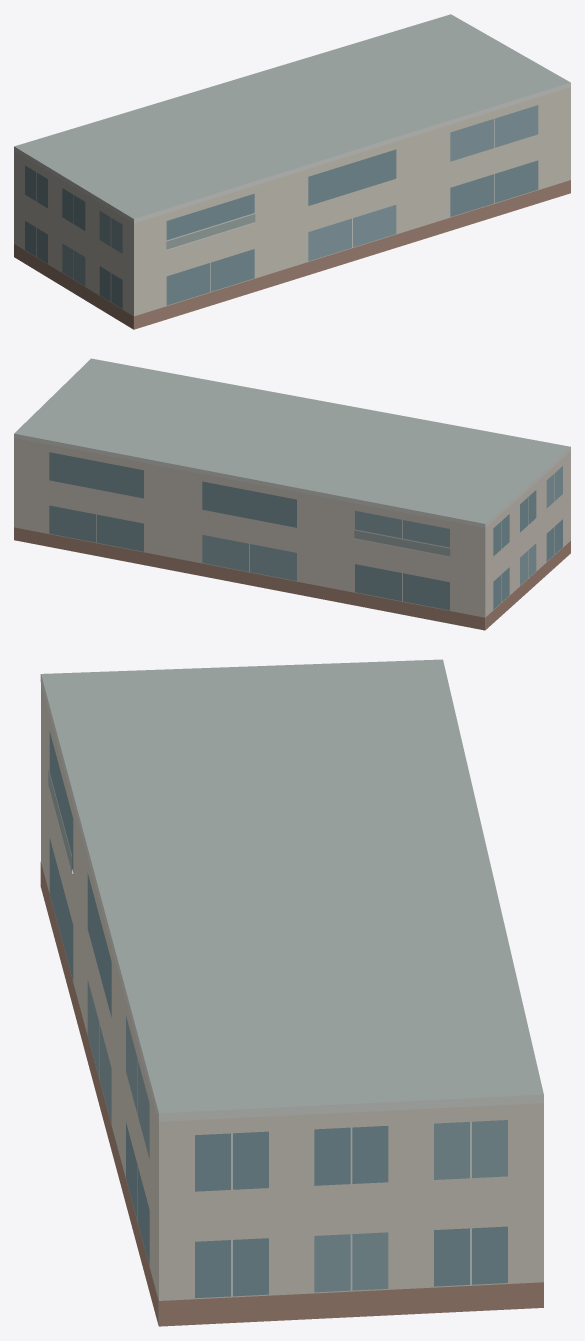
File: survey-upis-32854753.glb
3 views of the same model, one above another, from view 1: azimuth 30°, elevation 25°; view 2: azimuth 150°, elevation 25°; view 3: azimuth 270°, elevation 25° (orthographic). The views are drawn at different scales.
Parts seen in each view (by area): view 1: survey-upis-32854753.tmp; view 2: survey-upis-32854753.tmp; view 3: survey-upis-32854753.tmp.
Boxes of the visible parts, x1,y1,x2,y2 form: survey-upis-32854753.tmp: (14, 14, 570, 329); survey-upis-32854753.tmp: (14, 358, 570, 630); survey-upis-32854753.tmp: (40, 659, 543, 1326).
Bounding box in the file's own units: 27.87 × 6.1 × 13.06.
